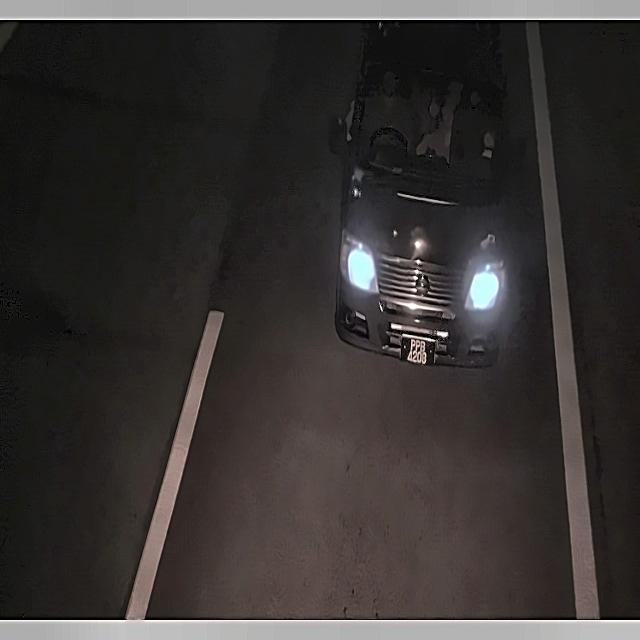car: (399, 334, 436, 372)
